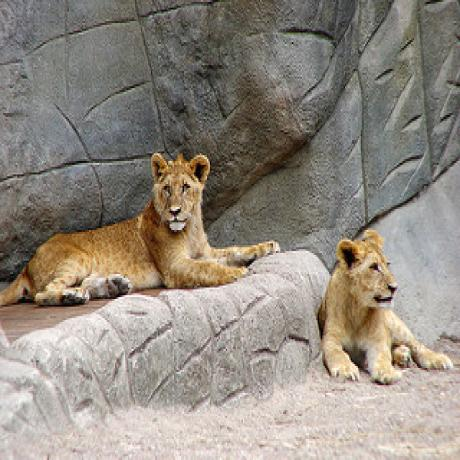Lion: (0, 146, 285, 320), (316, 226, 453, 393)
